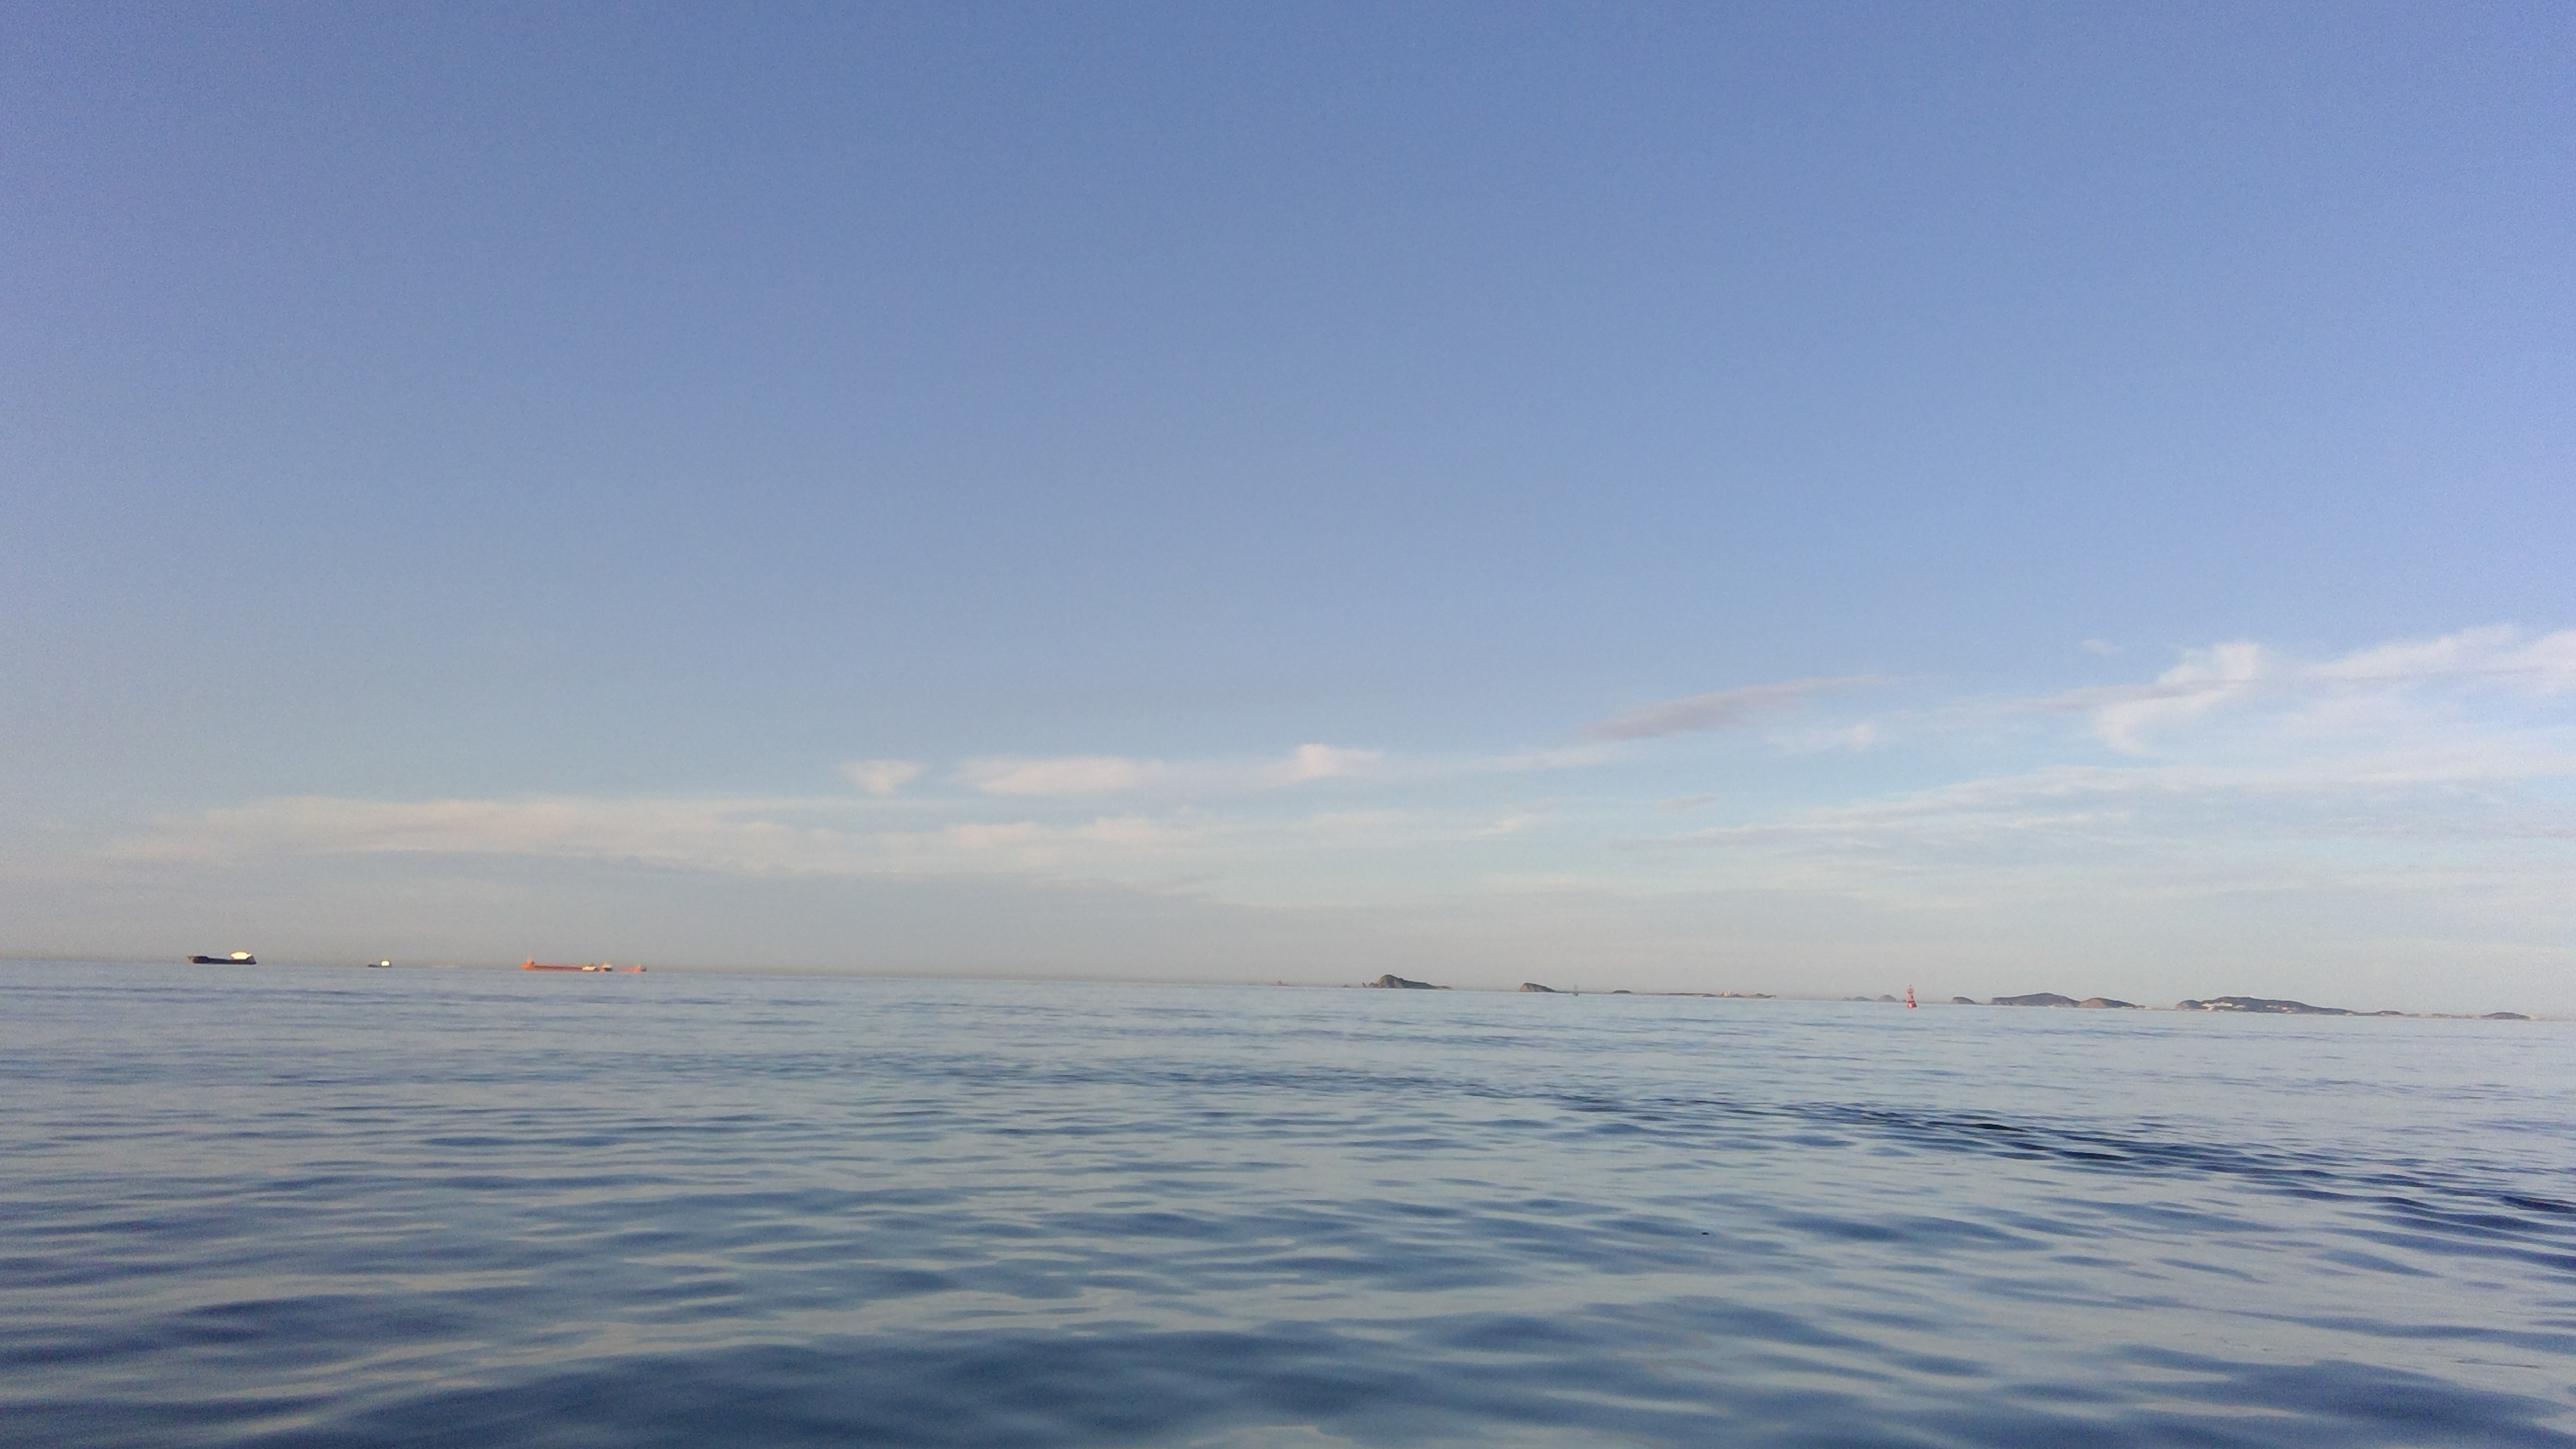buoy: (1895, 982, 1925, 1012)
platform: (515, 948, 649, 980)
rock: (2185, 985, 2530, 1014), (1951, 987, 2162, 1016), (1516, 978, 1762, 1001), (1359, 961, 1442, 1010)
ship: (198, 945, 267, 973), (361, 943, 405, 973)
